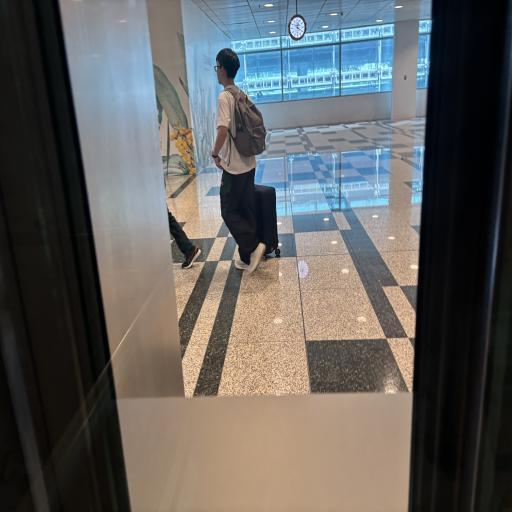person_with_luggage_left: (198, 28, 289, 280)
